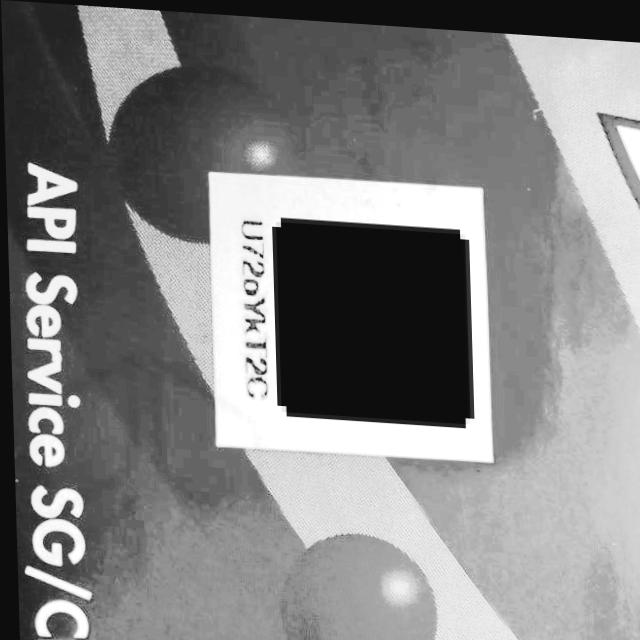qr_code: (274, 218, 467, 418)
